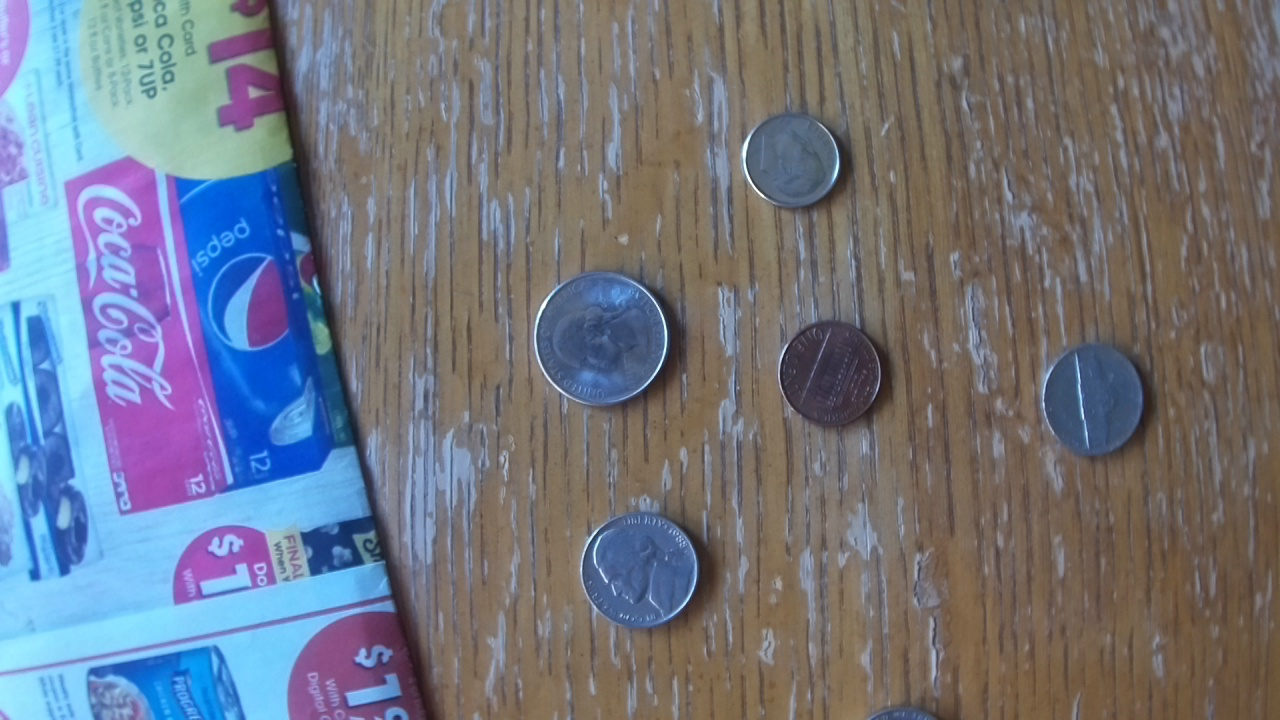dime: (741, 111, 843, 210)
nickel: (579, 512, 700, 630), (1040, 343, 1145, 457)
penny: (779, 319, 881, 426)
quarter: (532, 272, 669, 408)
